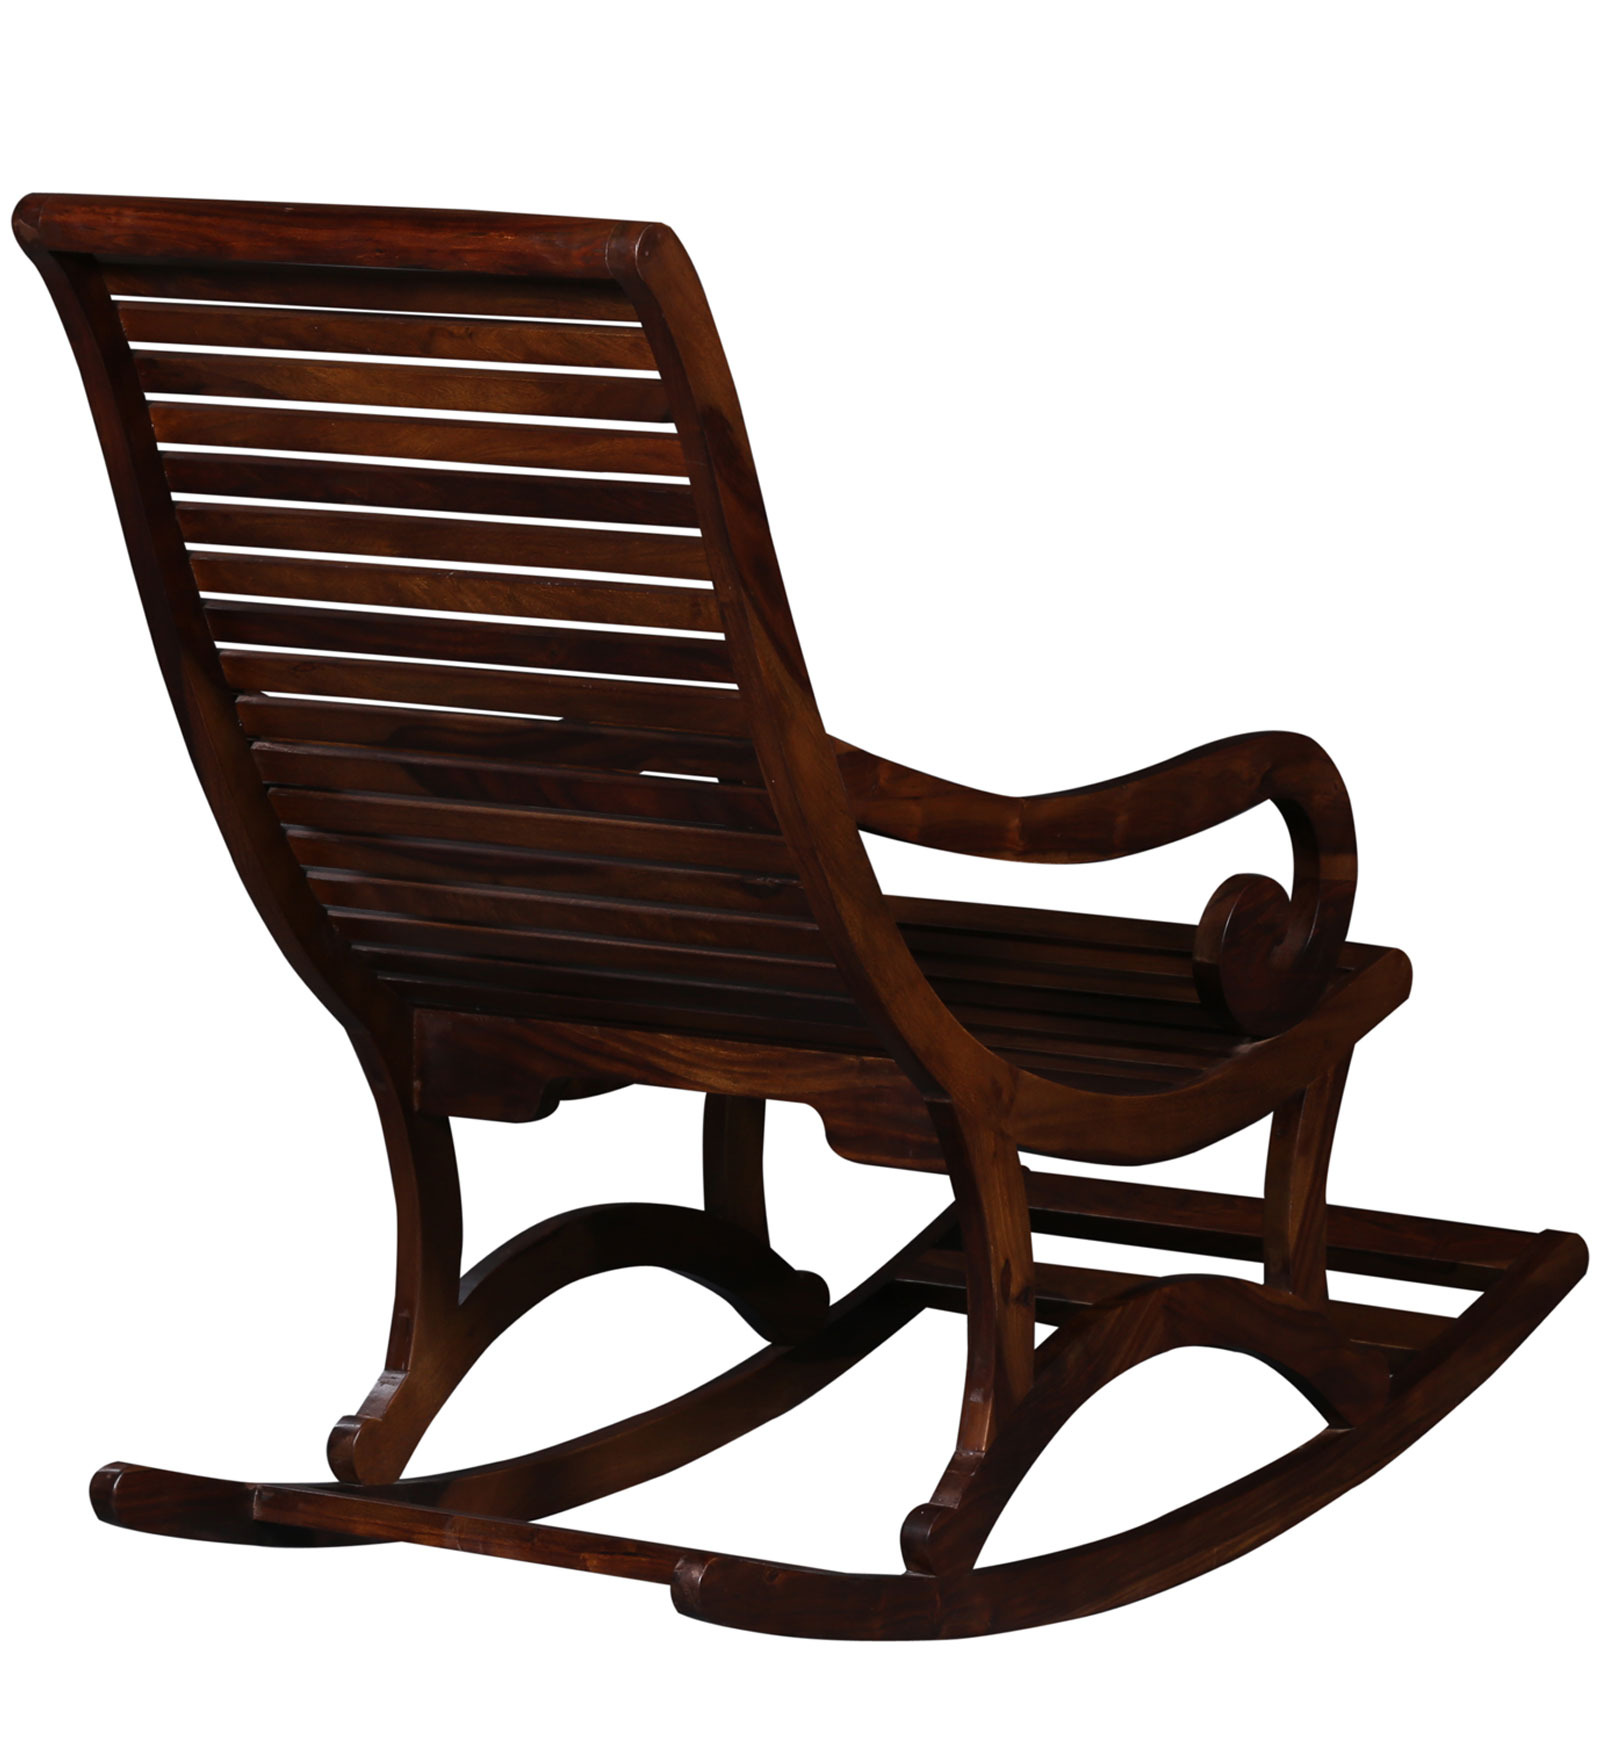Wellesley Rocking Chair in Provincial Teak Finish by Amberville: (12, 141, 1577, 1702)
